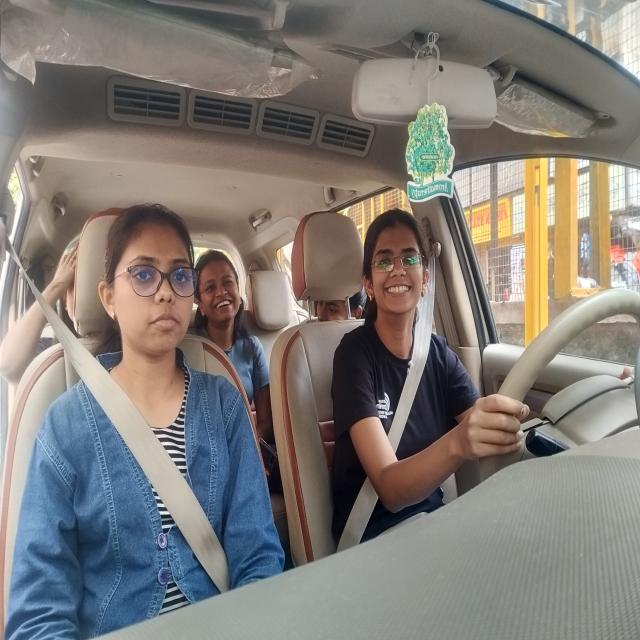person: (97, 200, 205, 384), (358, 190, 440, 360), (192, 237, 248, 364)
